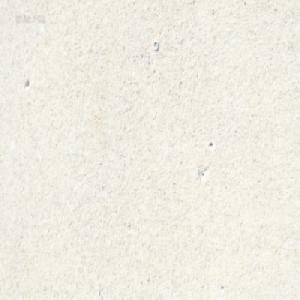Washer: (152, 40, 158, 51)
